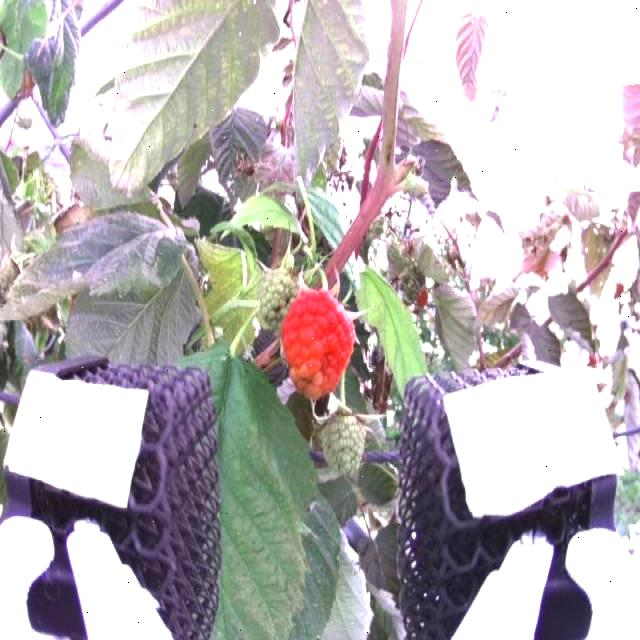Riped berries: (278, 285, 356, 400)
